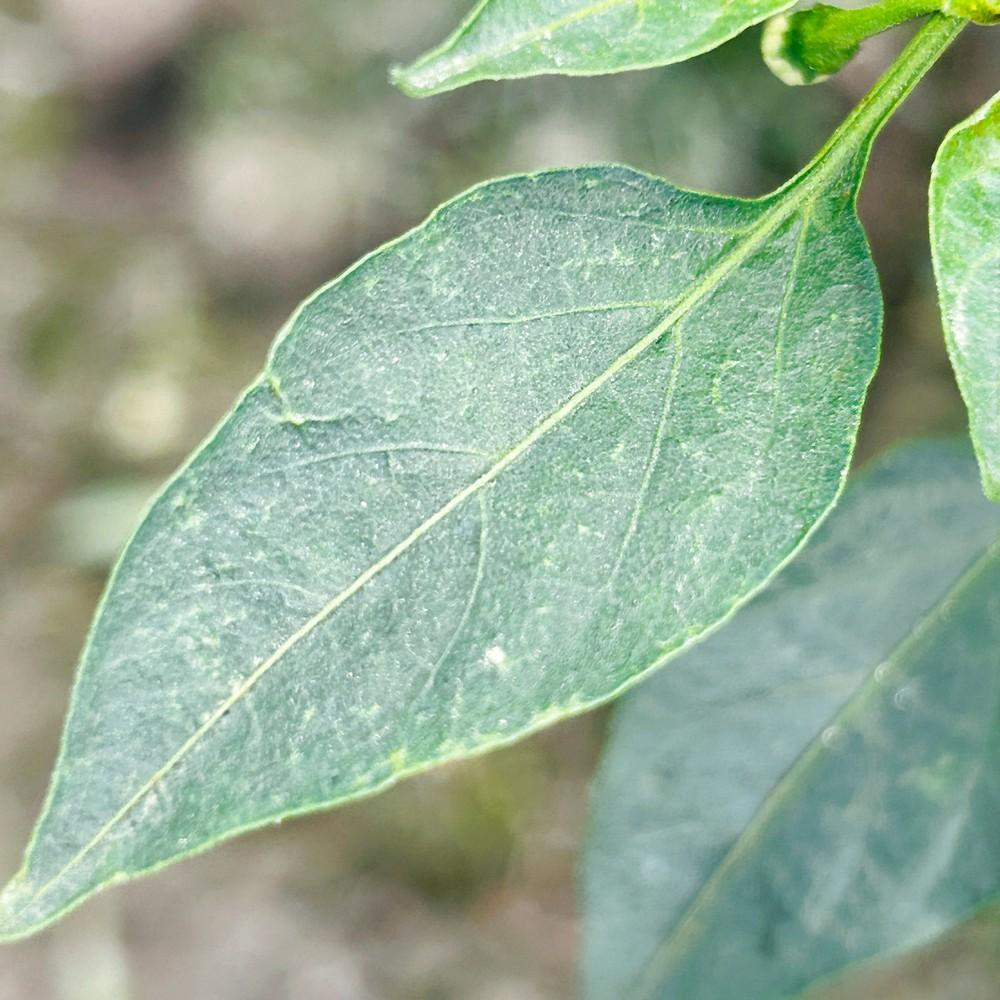Daun Cabai Sehat: (2, 157, 880, 947)
